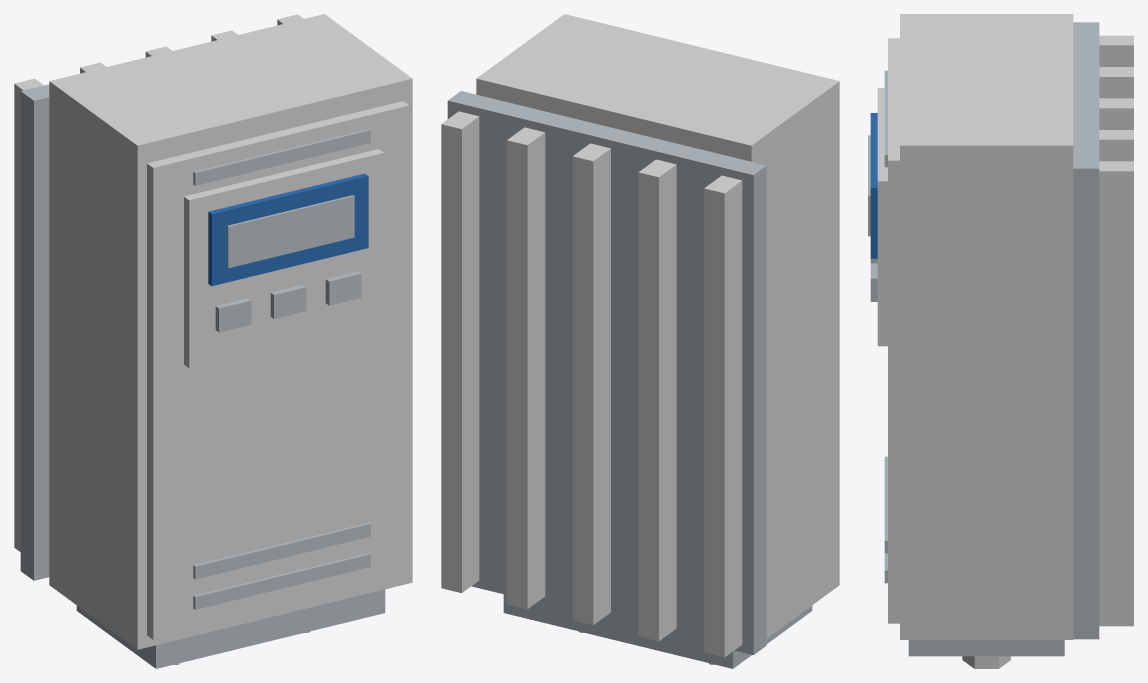
The model's file is vfd.glb.
3 renders of one model, left to right at view 1: azimuth 30°, elevation 25°; view 2: azimuth 150°, elevation 25°; view 3: azimuth 270°, elevation 25°, orthographic.
Visible parts, largest first — view 1: front.cover, enclosure, keypad.module, heatsink.plate, display.bezel, gland.plate, display.window, heatsink.fin.0, vent.slot.0, vent.slot.1, vent.slot.2, keypad.key.2 (+2 smaller); view 2: heatsink.plate, enclosure, heatsink.fin.0, heatsink.fin.2, heatsink.fin.1, heatsink.fin.3, heatsink.fin.4, gland.plate; view 3: enclosure, heatsink.plate, heatsink.fin.4, front.cover, gland.plate, keypad.module, display.bezel, heatsink.fin.0, heatsink.fin.1, heatsink.fin.2, heatsink.fin.3, cable.gland.1.
Boxes of the visible parts, left/top/right/bottom form: front.cover: left=147, top=101, right=409, bottom=639; enclosure: left=49, top=14, right=412, bottom=649; keypad.module: left=184, top=149, right=383, bottom=368; heatsink.plate: left=20, top=84, right=49, bottom=580; display.bezel: left=208, top=173, right=368, bottom=285; gland.plate: left=76, top=589, right=385, bottom=668; display.window: left=227, top=195, right=354, bottom=268; heatsink.fin.0: left=14, top=78, right=43, bottom=551; vent.slot.0: left=193, top=553, right=370, bottom=609; vent.slot.1: left=193, top=522, right=370, bottom=579; vent.slot.2: left=193, top=129, right=370, bottom=185; keypad.key.2: left=325, top=271, right=361, bottom=305; heatsink.plate: left=447, top=91, right=766, bottom=654; enclosure: left=476, top=14, right=839, bottom=638; heatsink.fin.0: left=704, top=175, right=742, bottom=657; heatsink.fin.2: left=572, top=143, right=610, bottom=625; heatsink.fin.1: left=638, top=159, right=676, bottom=641; heatsink.fin.3: left=507, top=127, right=545, bottom=609; heatsink.fin.4: left=441, top=111, right=479, bottom=593; gland.plate: left=503, top=594, right=812, bottom=668; enclosure: left=900, top=14, right=1073, bottom=639; heatsink.plate: left=1073, top=22, right=1099, bottom=639; heatsink.fin.4: left=1099, top=161, right=1133, bottom=626; front.cover: left=888, top=38, right=899, bottom=623; gland.plate: left=908, top=640, right=1064, bottom=656; keypad.module: left=877, top=88, right=887, bottom=346; display.bezel: left=870, top=113, right=877, bottom=258; heatsink.fin.0: left=1099, top=35, right=1133, bottom=66; heatsink.fin.1: left=1099, top=67, right=1133, bottom=98; heatsink.fin.2: left=1099, top=98, right=1133, bottom=129; heatsink.fin.3: left=1099, top=130, right=1133, bottom=161; cable.gland.1: left=962, top=656, right=1010, bottom=668.
Bounding box in the file's own units: 0.4 × 0.7 × 0.307.
